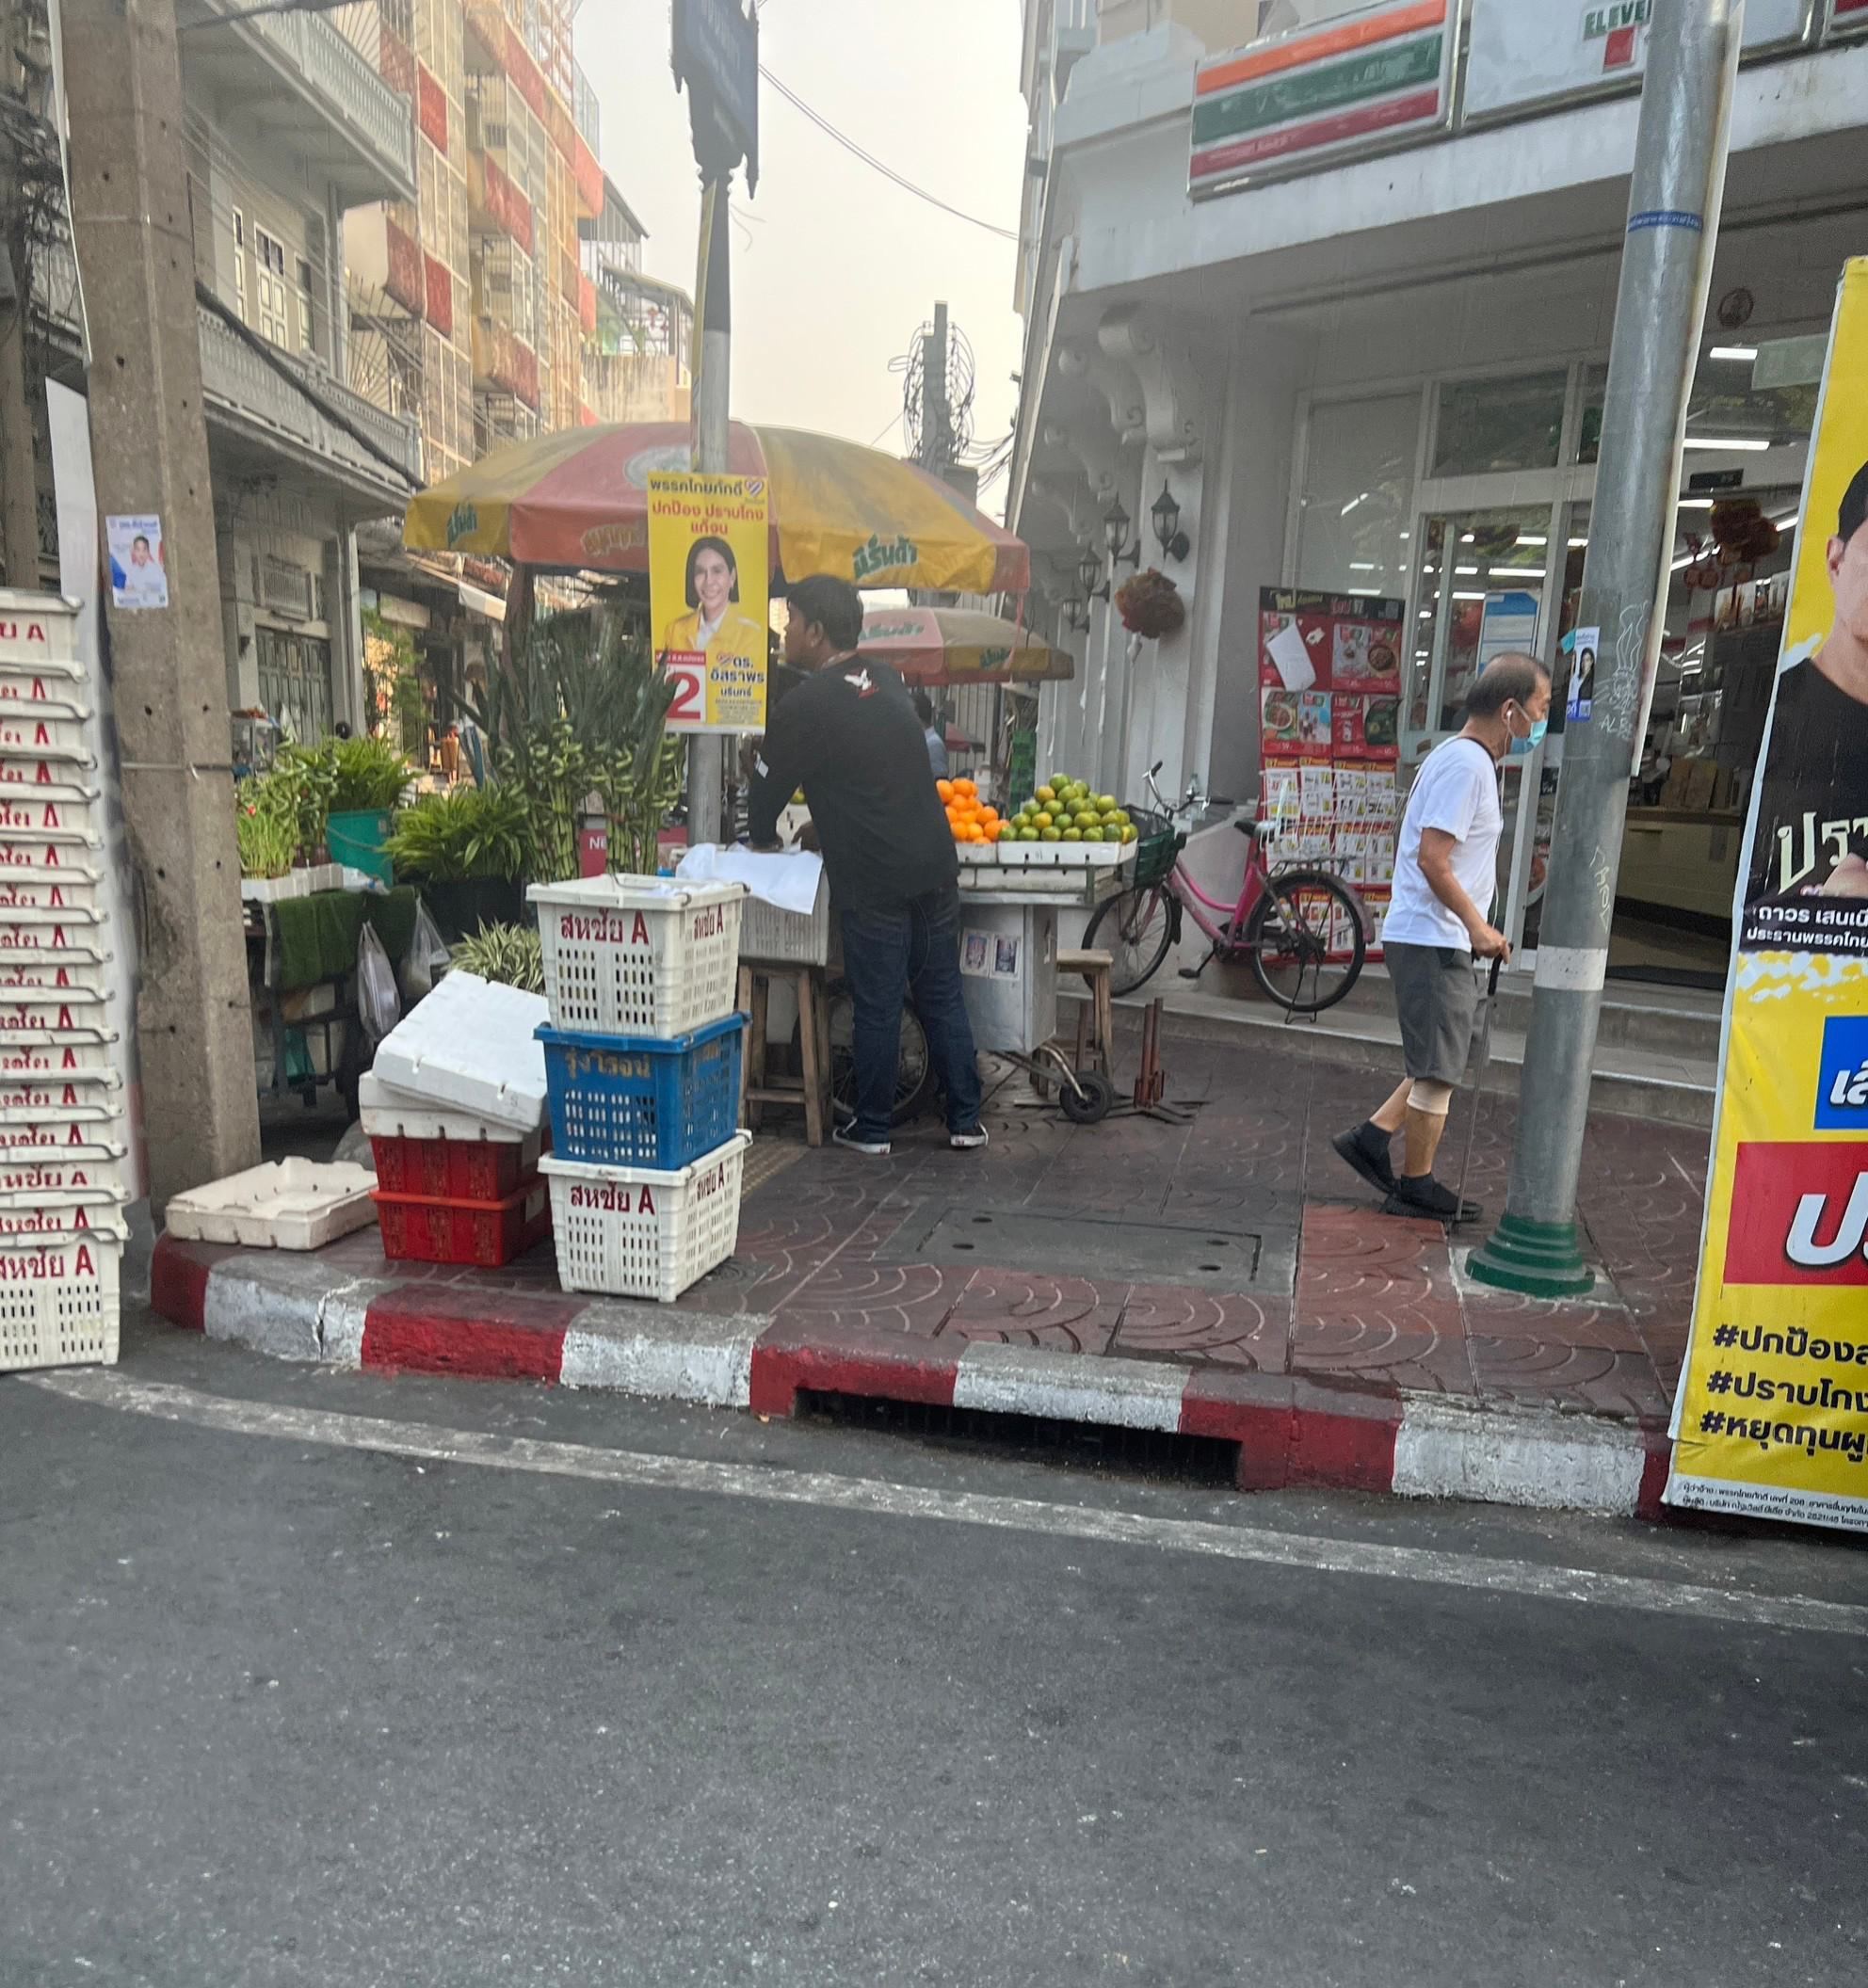Banner: (651, 468, 783, 733)
